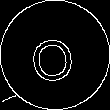O_N: (30, 27, 80, 83)
